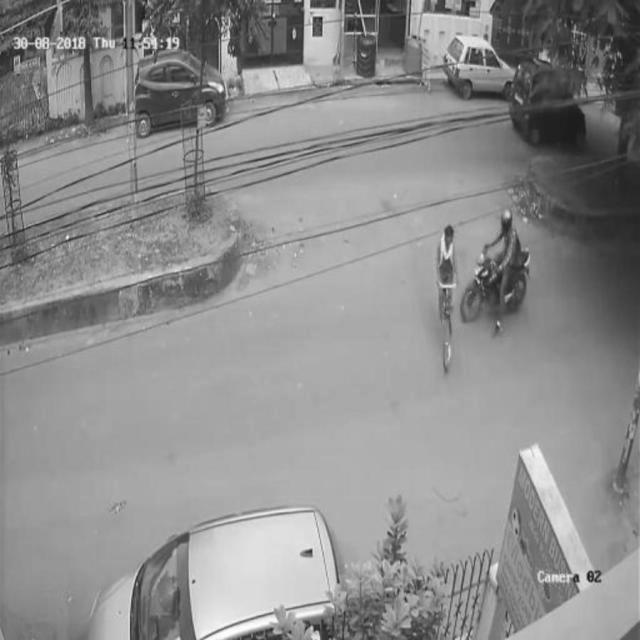vehicle: (84, 505, 348, 635), (462, 210, 532, 322), (138, 57, 219, 134), (507, 67, 588, 143), (426, 216, 460, 368), (443, 34, 511, 101)
